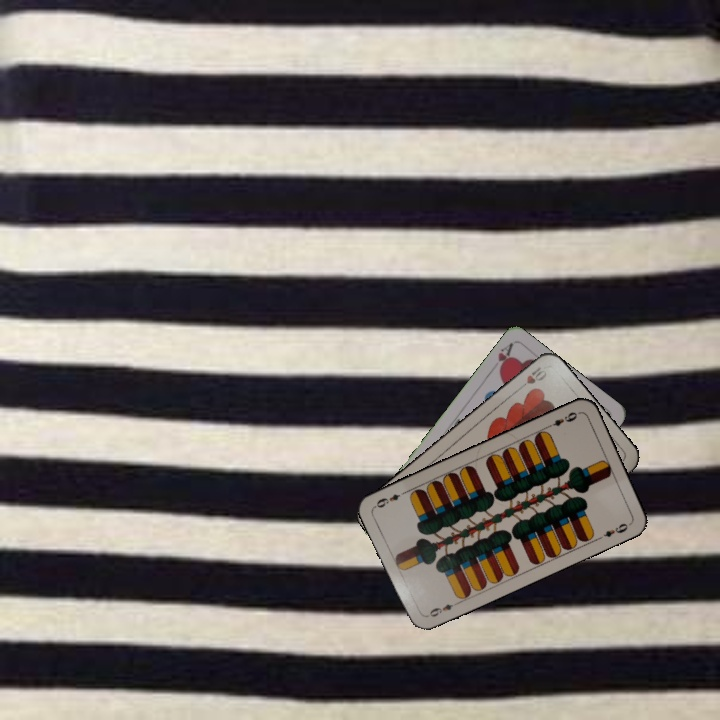E9: (422, 598, 460, 620), (543, 408, 580, 430)
H10: (514, 362, 550, 393)
HA: (494, 339, 516, 376)
